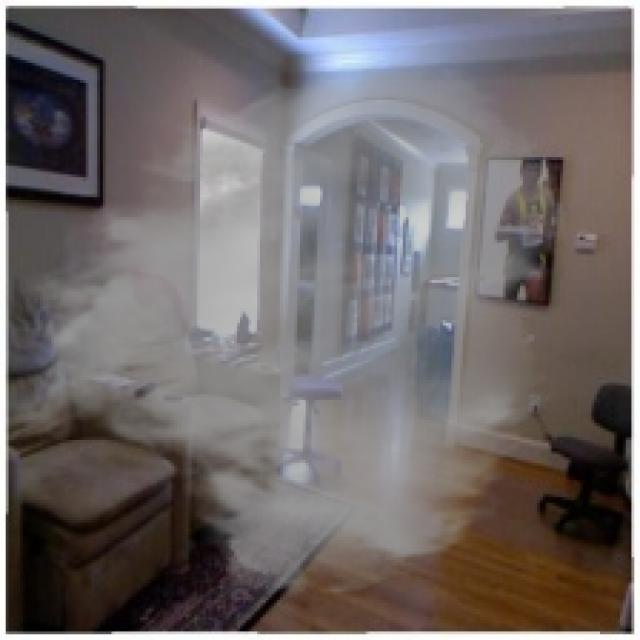smoke: (11, 57, 572, 600)
